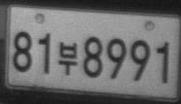1: (155, 40, 175, 83), (36, 32, 56, 74)
8: (82, 35, 103, 78), (12, 30, 33, 72)
9: (105, 37, 127, 79), (129, 39, 151, 80)
부: (58, 41, 78, 75)
